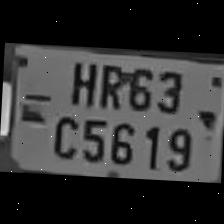1: (136, 116, 162, 169)
3: (152, 64, 183, 114)
5: (75, 113, 106, 162)
6: (121, 60, 154, 110), (104, 115, 136, 166)
9: (162, 120, 194, 171)
C: (46, 109, 78, 159)
H: (62, 54, 98, 106)
R: (93, 58, 124, 108)
